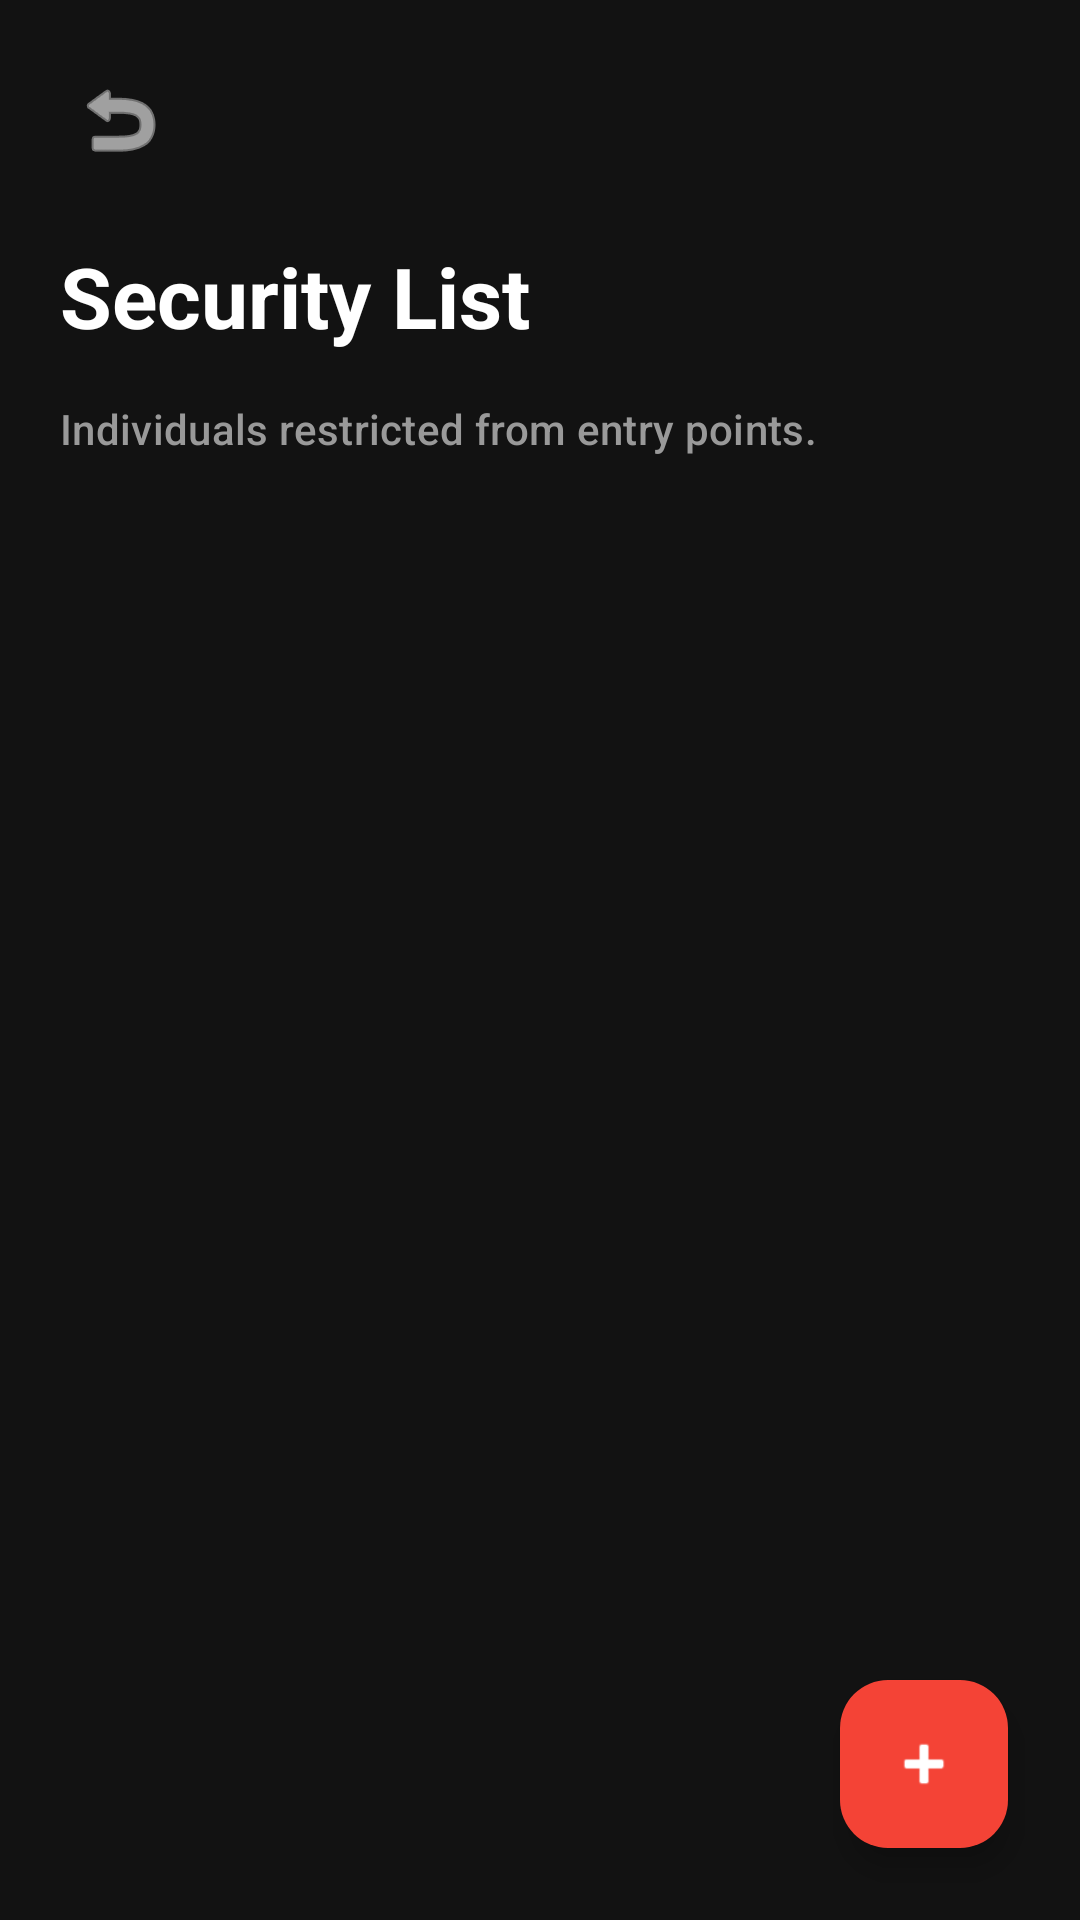

Icons on this 1080w x 1920h Android screen, each with its box as [x1, y1, x2, y2]:
Add to list: [840, 1680, 1008, 1848]
Back: [87, 89, 156, 152]
